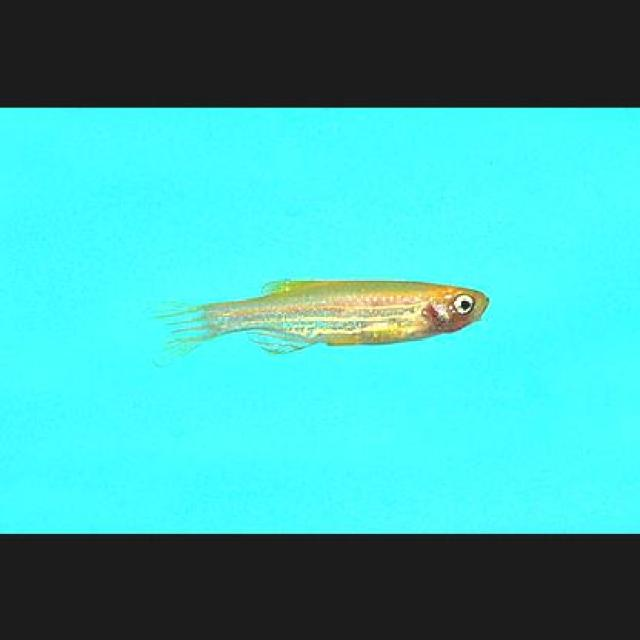ZebraFish: (135, 274, 490, 368)
